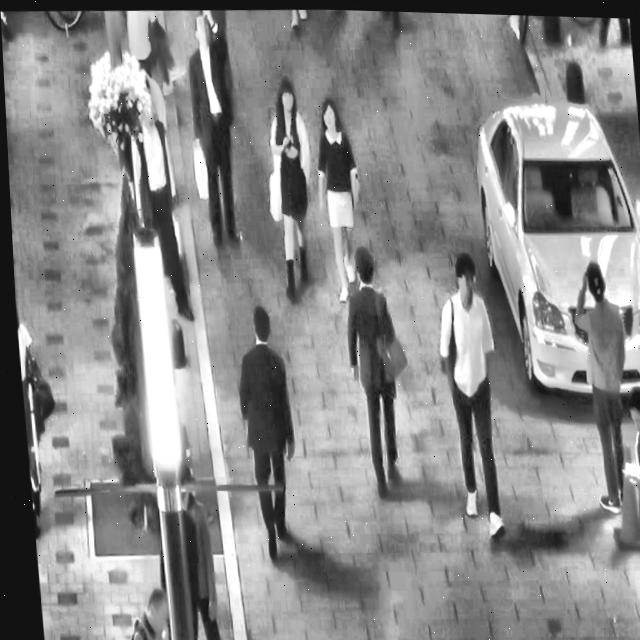light_vehicle: (462, 74, 640, 407)
